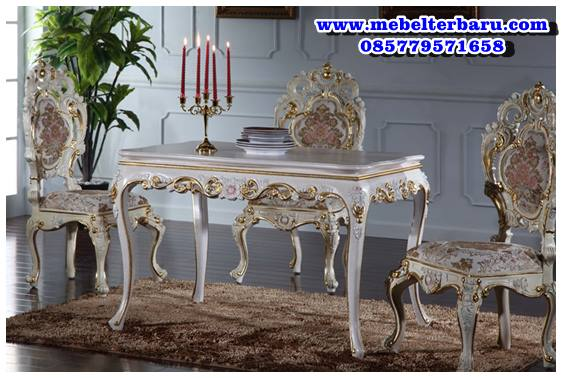Carving Chair: (402, 83, 561, 363)
Carving Table: (117, 145, 408, 345)
